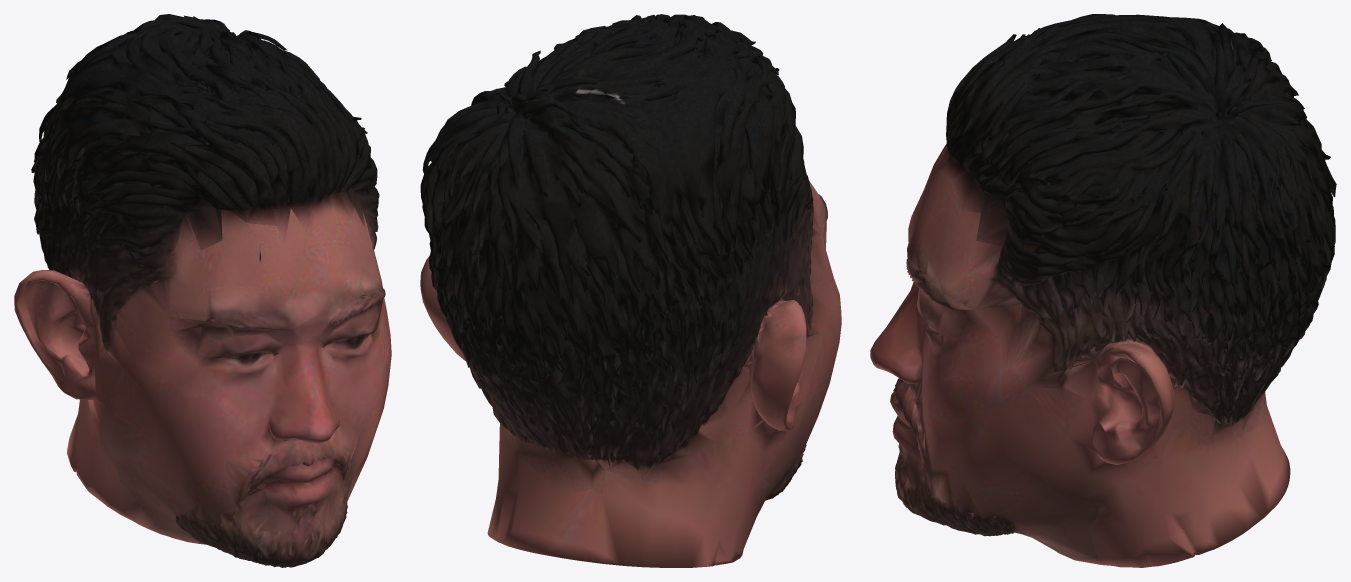
The model's file is head_sheldon.glb.
3 renders of one model, left to right at view 1: azimuth 30°, elevation 25°; view 2: azimuth 150°, elevation 25°; view 3: azimuth 270°, elevation 25°, orthographic. The views are drawn at different scales.
Visible parts, largest first — view 1: Mesh_0; view 2: Mesh_0; view 3: Mesh_0.
Part boxes in pixels (left/top/right/bottom): Mesh_0: left=14, top=14, right=391, bottom=567; Mesh_0: left=420, top=14, right=841, bottom=567; Mesh_0: left=870, top=14, right=1336, bottom=567.
Size of the model in its own units: 1.11 by 1.41 by 1.18.
1 material, 1 textured.
